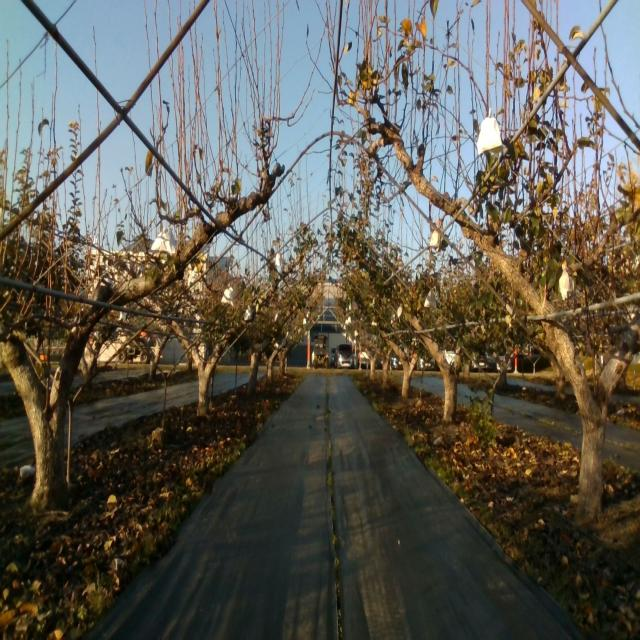pearbags: (478, 110, 502, 152), (150, 222, 177, 256), (558, 263, 574, 302), (221, 283, 234, 306), (424, 290, 436, 308)
